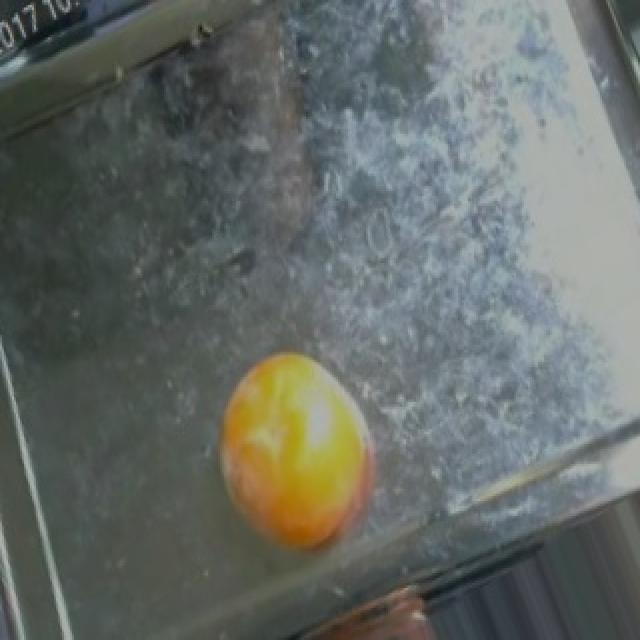Fruit: (198, 338, 398, 576), (276, 578, 476, 640)
